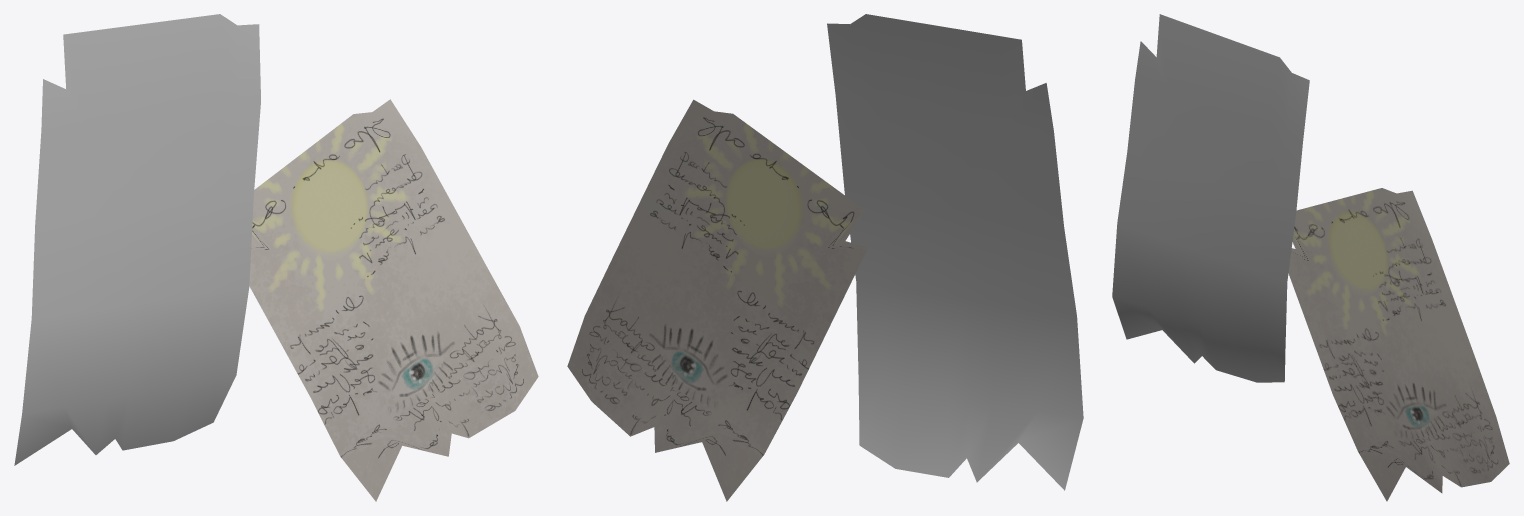
Rendered from Drawings1.fbx.
3 renders of one model, left to right at view 1: azimuth 30°, elevation 25°; view 2: azimuth 150°, elevation 25°; view 3: azimuth 330°, elevation 25°, orthographic. The views are drawn at different scales.
Visible parts, largest first — view 1: Kartka, Kartka6; view 2: Kartka, Kartka6; view 3: Kartka, Kartka6.
Part boxes in pixels (left/top/right/bottom): Kartka: left=14, top=14, right=260, bottom=465; Kartka6: left=249, top=99, right=538, bottom=501; Kartka: left=827, top=14, right=1083, bottom=490; Kartka6: left=567, top=99, right=868, bottom=501; Kartka: left=1112, top=14, right=1309, bottom=382; Kartka6: left=1288, top=188, right=1509, bottom=501.
Bounding box in the file's own units: 191 × 190 × 15.46.
